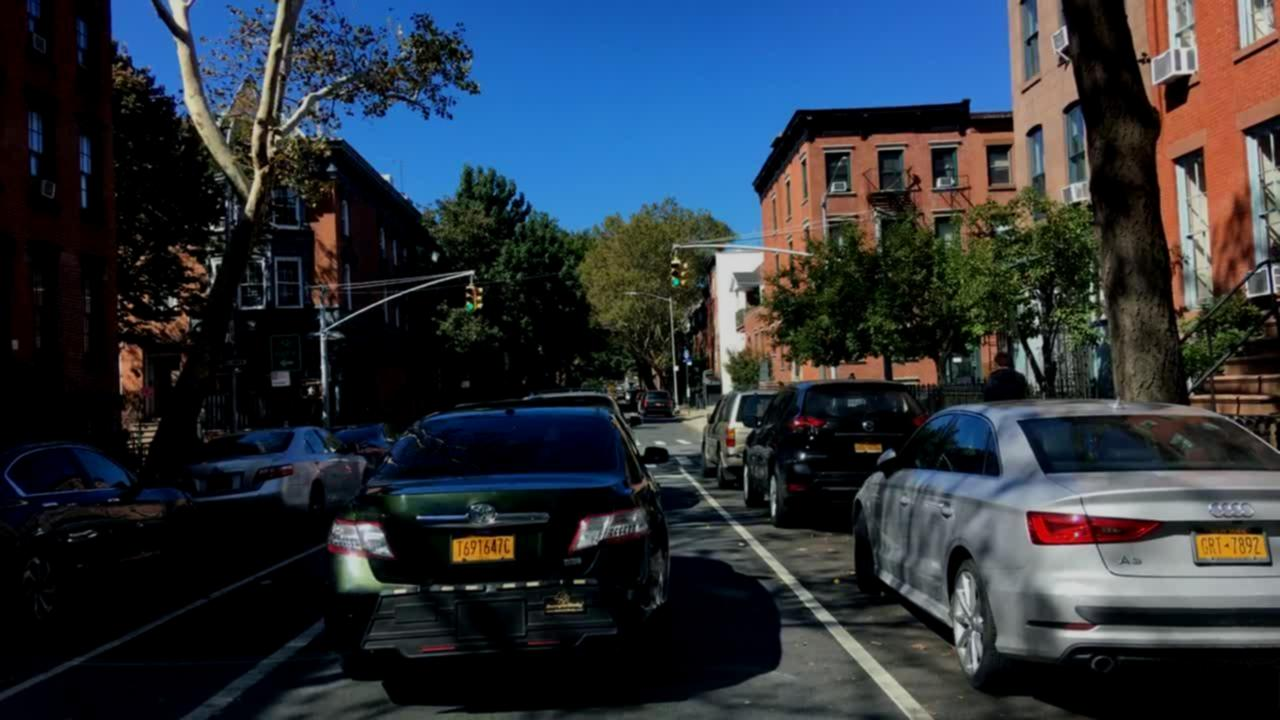Audi: (1200, 493, 1262, 524)
Mazda: (859, 420, 886, 433)
Toyota: (464, 501, 504, 526)
